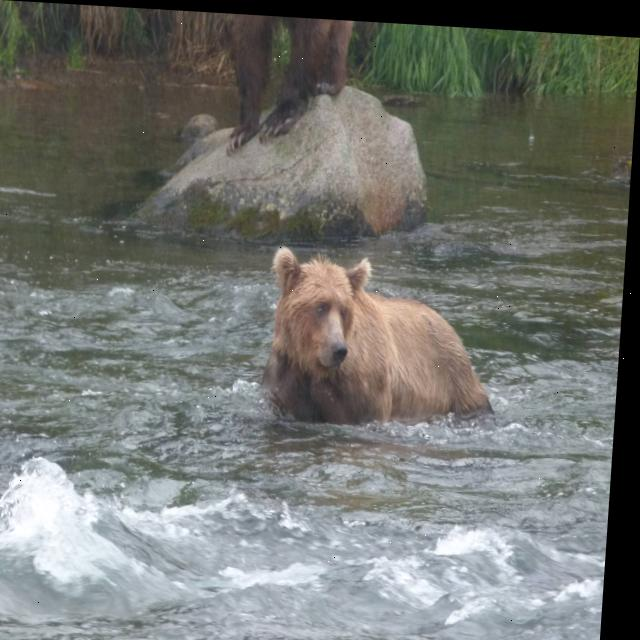bear face: (269, 242, 501, 416), (223, 11, 364, 159)
